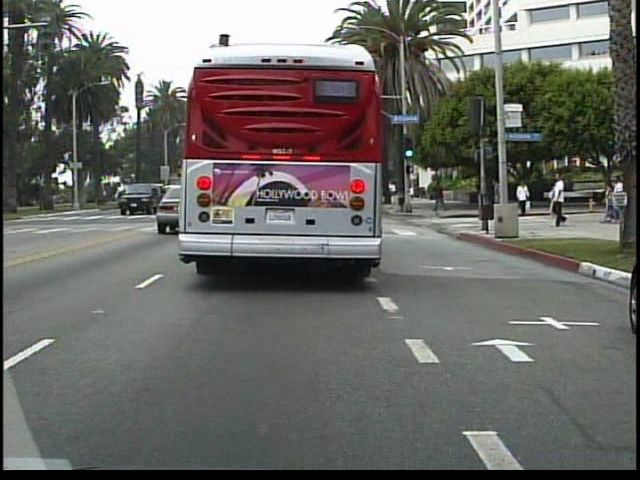person: (550, 169, 571, 227), (489, 176, 506, 215), (433, 176, 449, 217), (519, 178, 534, 216)
